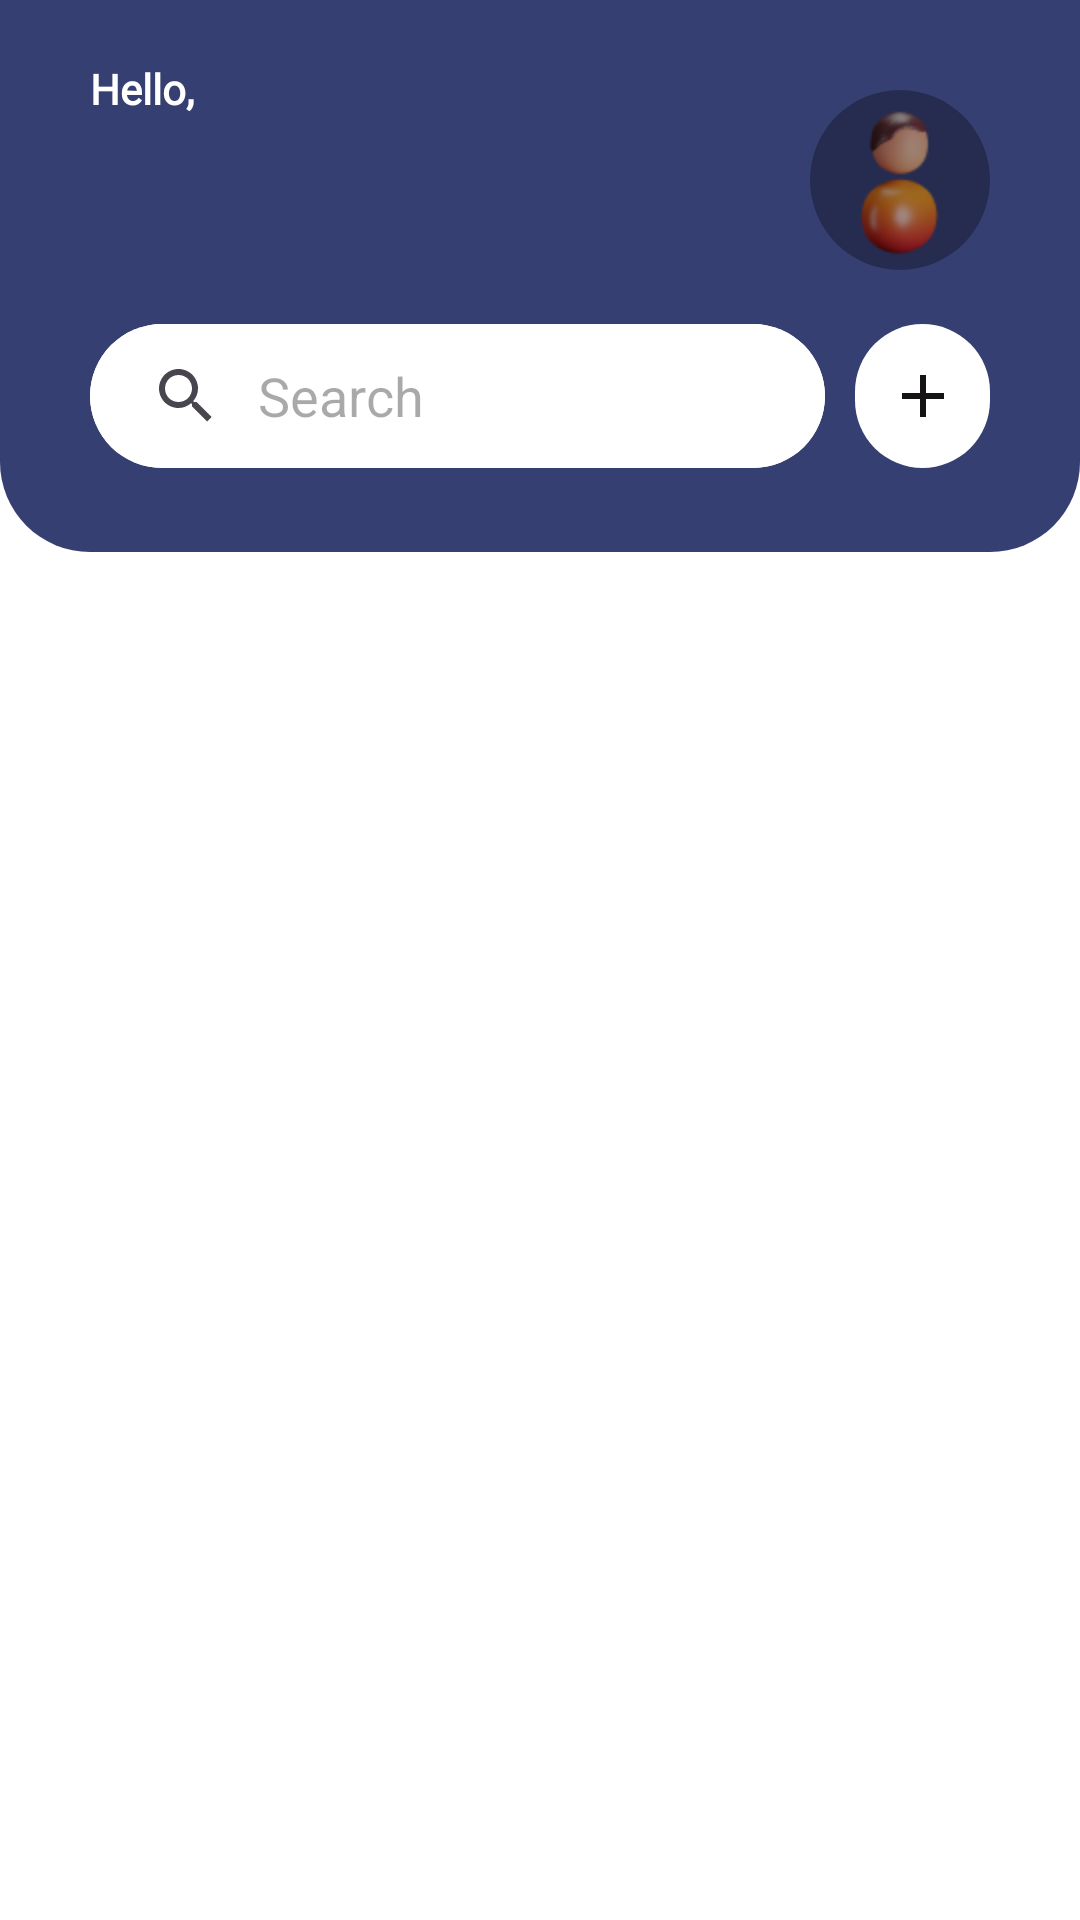

Icon click points for this 1080 × 1920 phone screenshot, format (x=x, y=y):
profil: (x=900, y=180)
Tambah item baru: (x=922, y=396)
